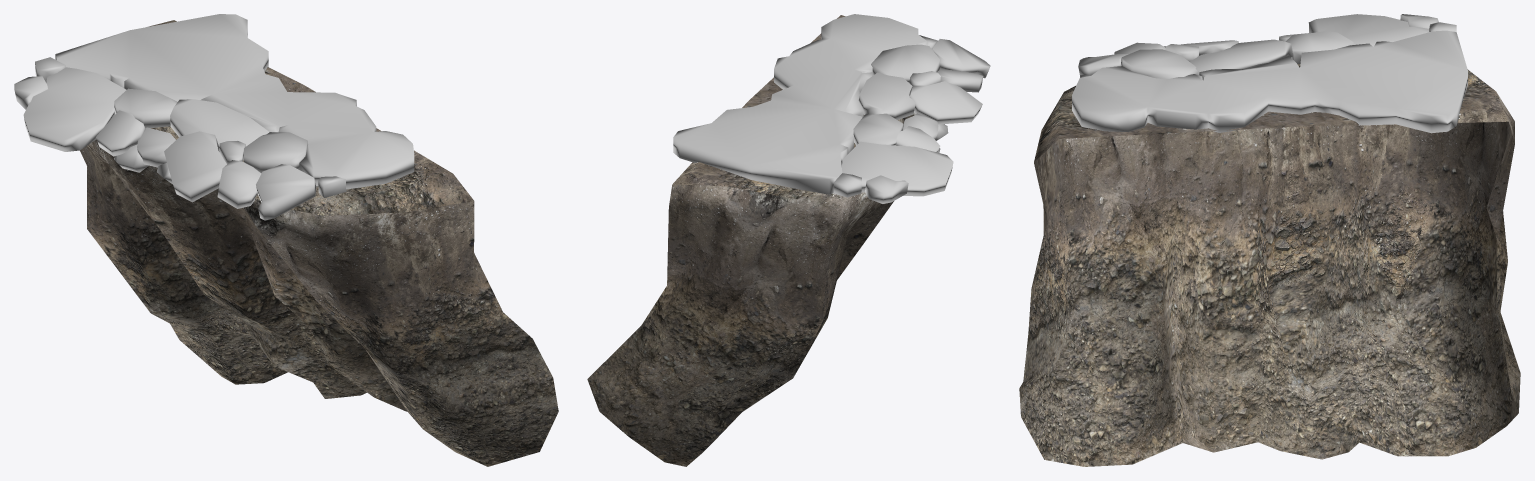
Rendered from Road_end2_LOD1.fbx.
3 views of the same model, side by side, from view 1: azimuth 30°, elevation 25°; view 2: azimuth 150°, elevation 25°; view 3: azimuth 270°, elevation 25° (orthographic). The views are drawn at different scales.
Visible parts, largest first — view 1: polySurface215; view 2: polySurface215; view 3: polySurface215.
Part boxes in pixels (bbox=[...]): polySurface215: bbox=[14, 14, 558, 466]; polySurface215: bbox=[587, 14, 990, 466]; polySurface215: bbox=[1019, 14, 1520, 466].
Size of the model in its own units: 5.3 by 5.2 by 6.65.
